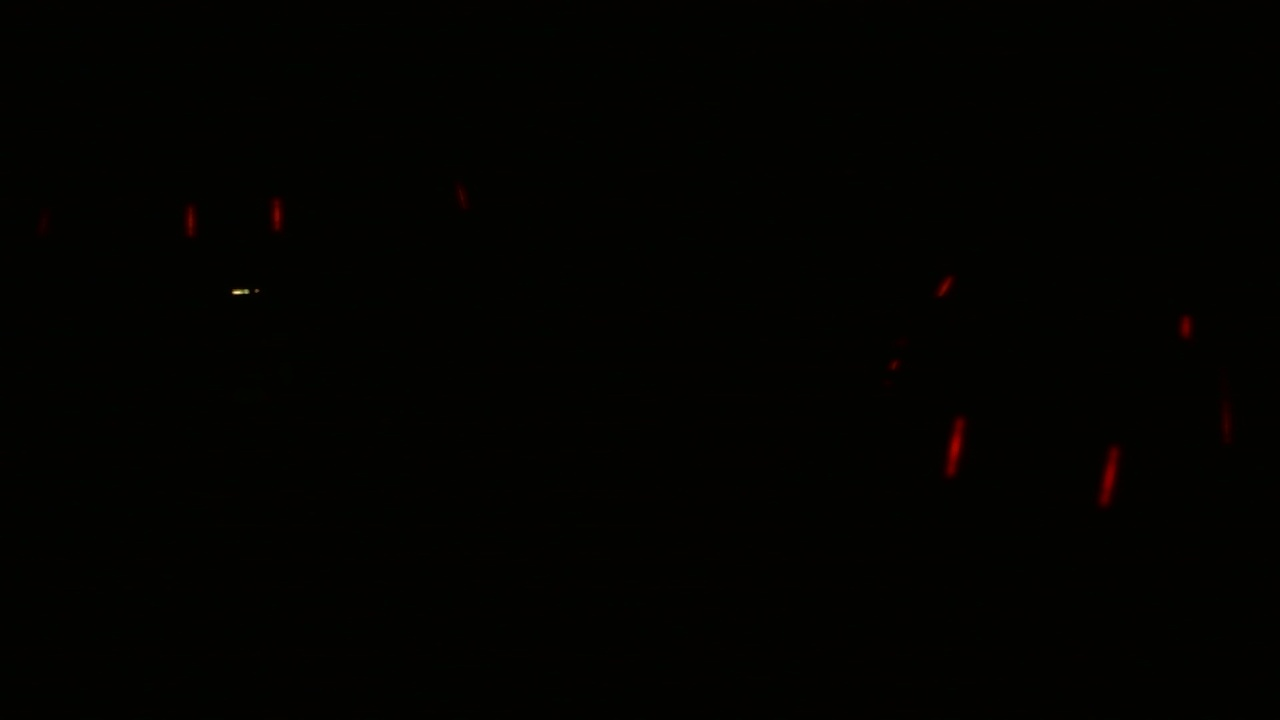pair1: (946, 408, 1117, 507), (174, 193, 288, 242)
